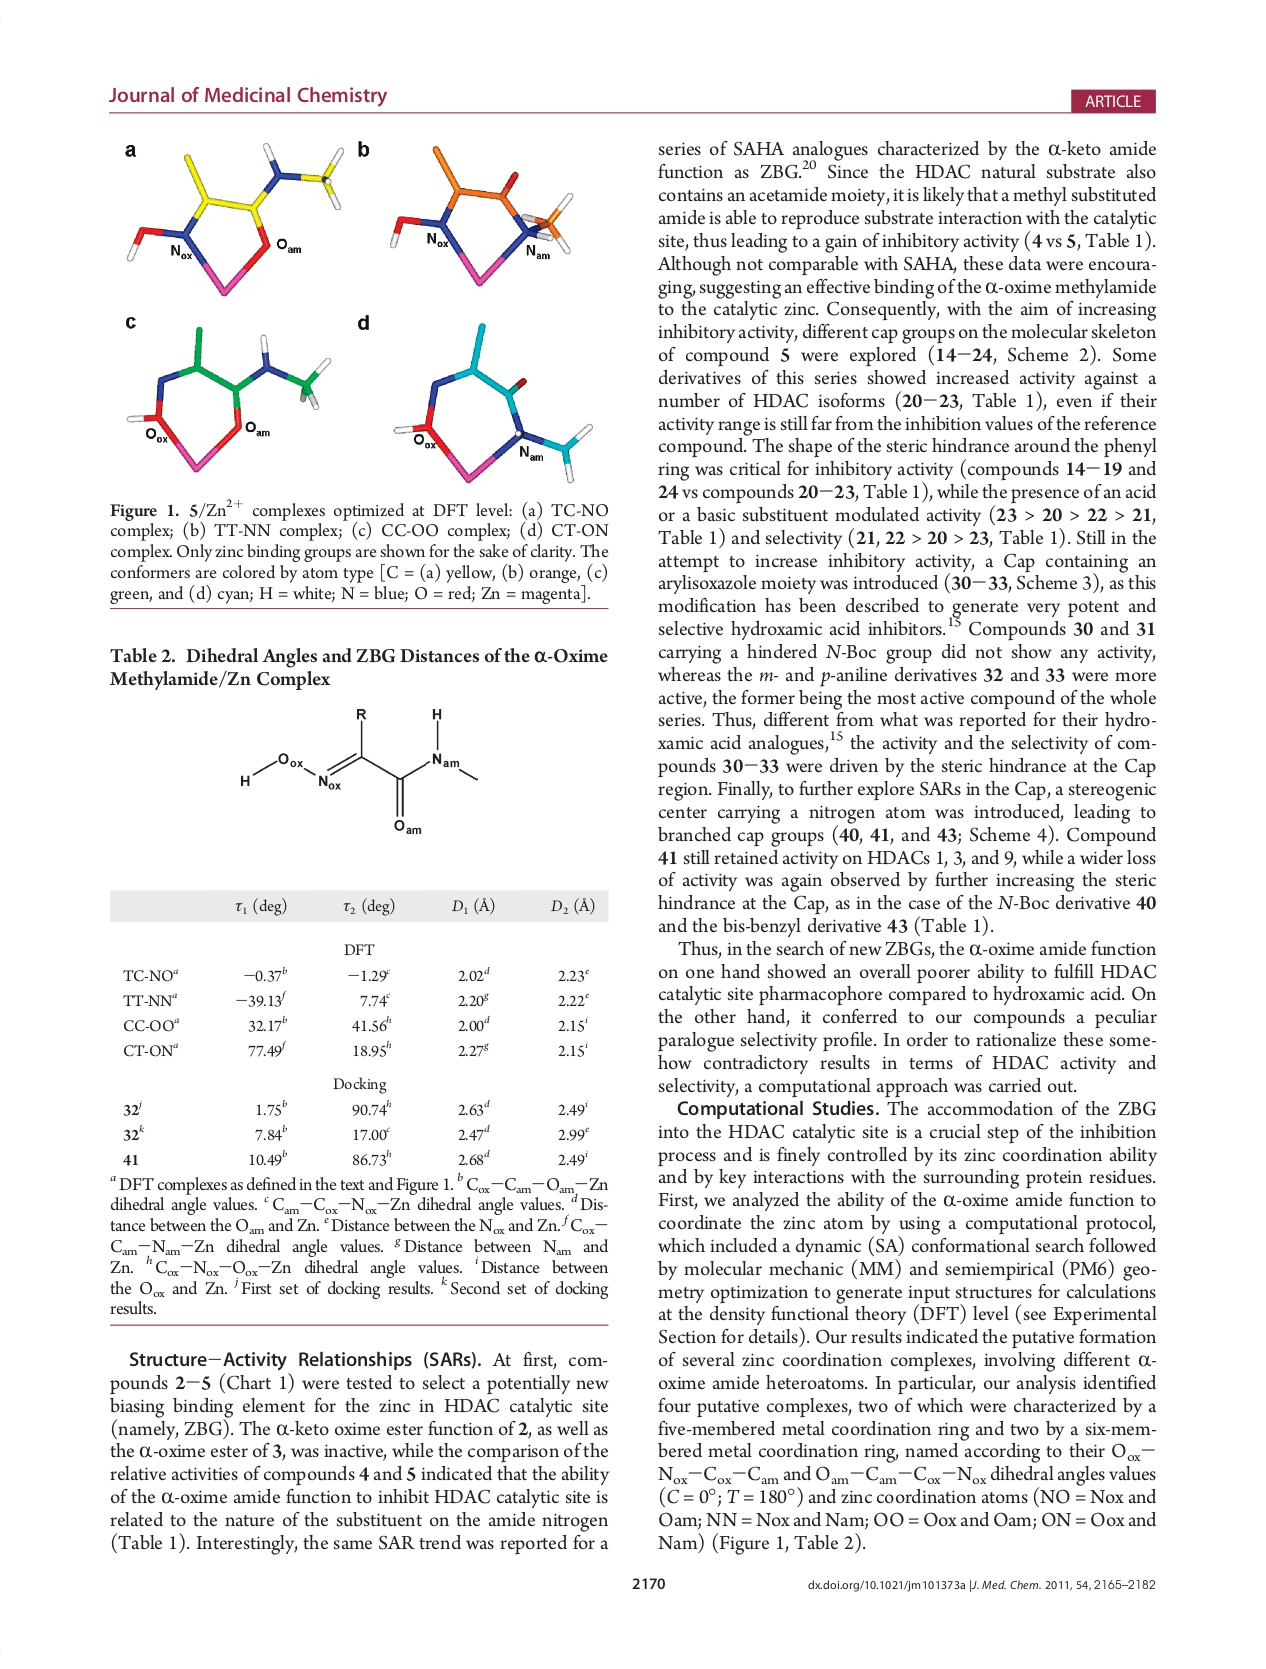exist_molecular: (231, 702, 484, 840)
